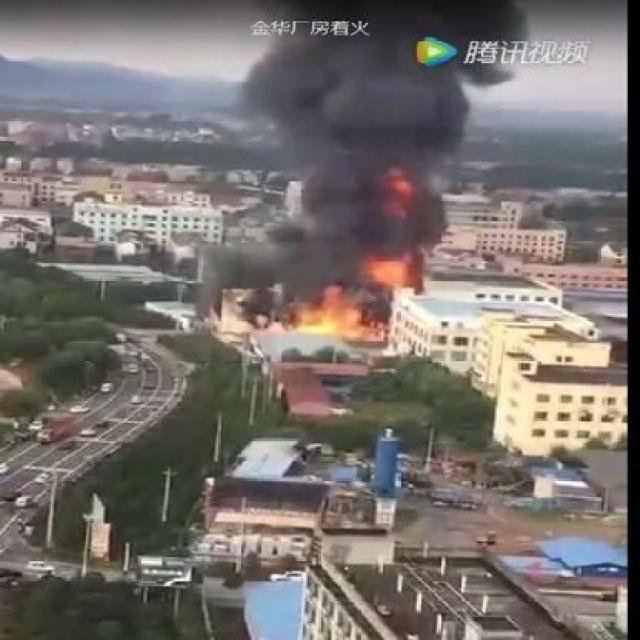Fire: (266, 162, 427, 351), (256, 10, 449, 162)
